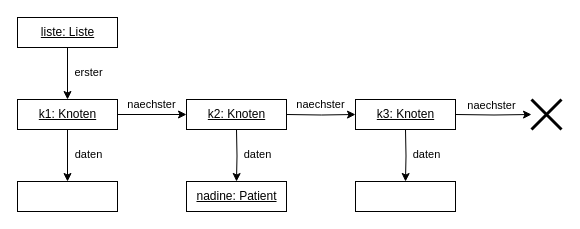
Some shapes in this 580 by 229 pixel diagram are drawn without their labels. Here are the shapes that lost their labels. From the top down, the centre of each, then its label:
(67,196): ali: Patient
(405,196): ebru: Patient
